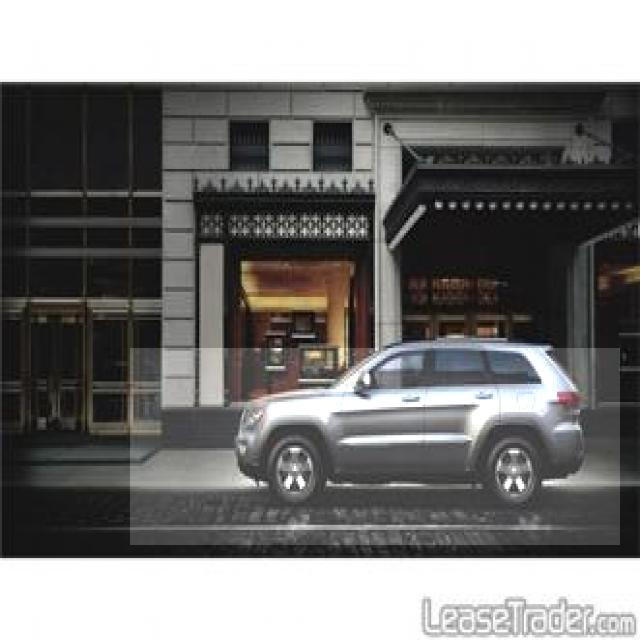Car: (130, 348, 620, 545)
